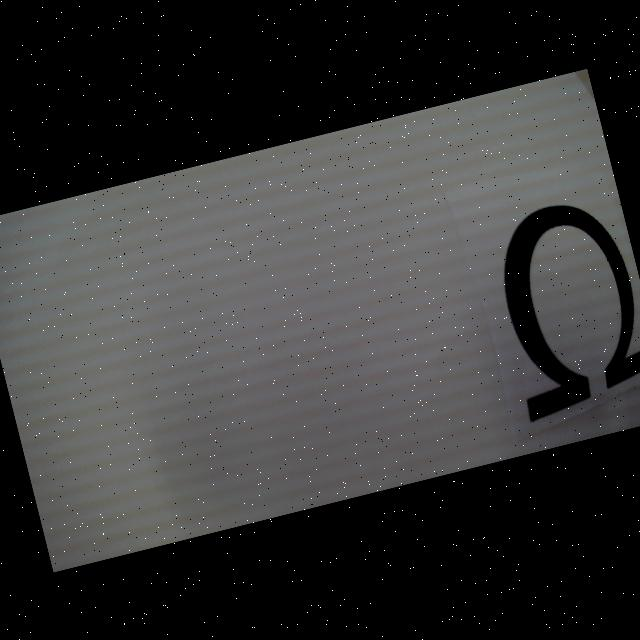OMEGA: (481, 192, 640, 421)
